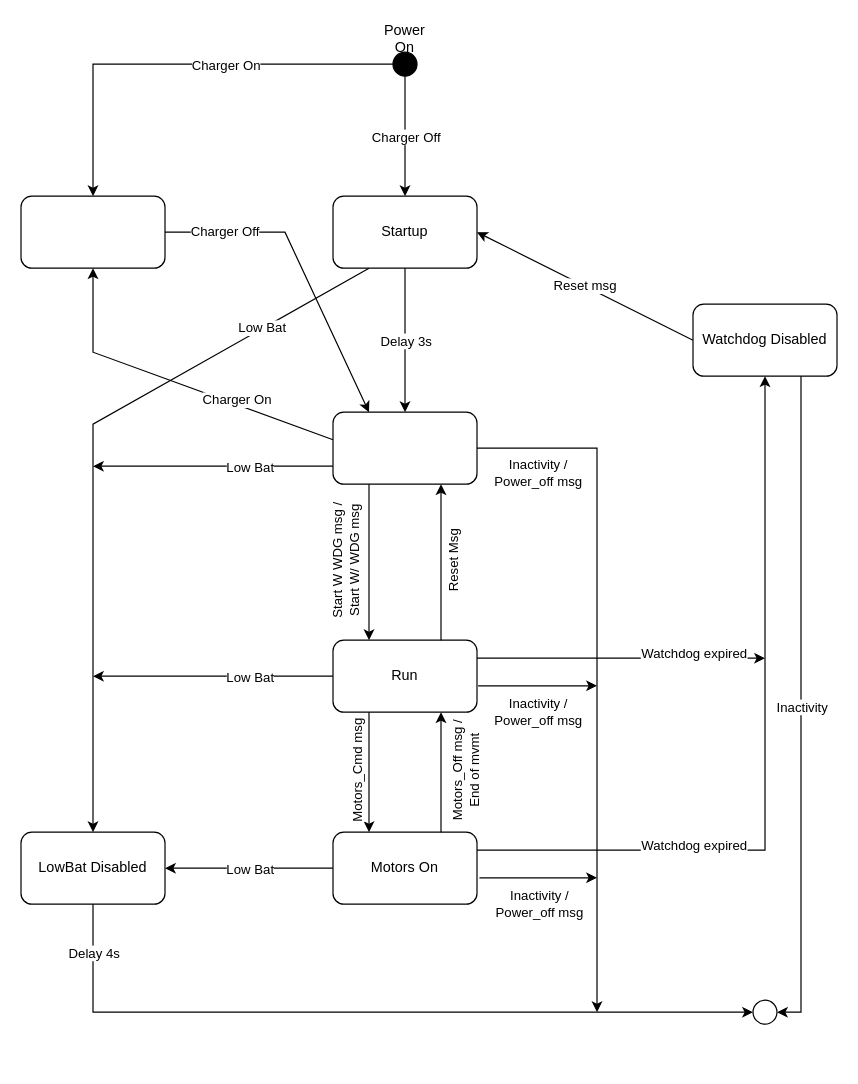
Image size: 858x1084. Some labels were removed from this diagram. The shapes that lost their labels are listed below. From the top down, each one's box as (x1, y1, x2, y2) in pixels, then its label:
(20, 195, 165, 268): In Charge
(332, 411, 477, 484): Idle
(752, 999, 777, 1024): Power Off
